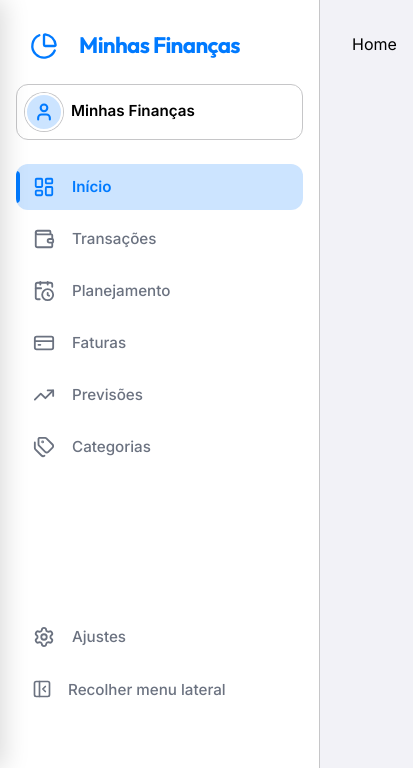
it: Layout navigation › collapses the desktop sidebar and persists the preference
Click the button "Recolher menu lateral" at (160, 689), box x1=16 y1=666 x2=303 y2=712
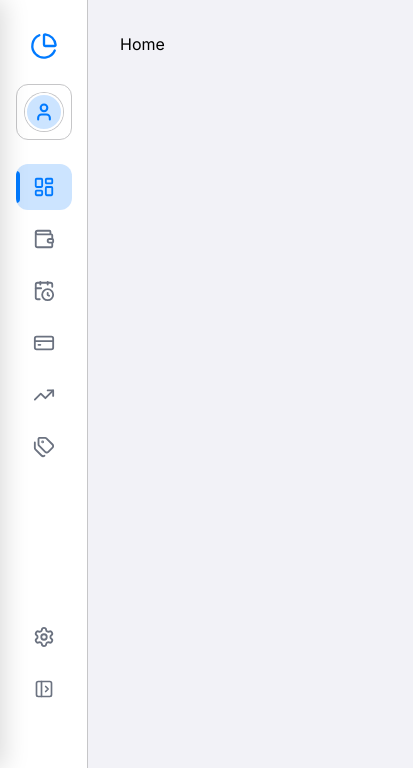
Expected: the button named "Expandir menu lateral" is collapsed, x1=16 y1=666 x2=72 y2=712
